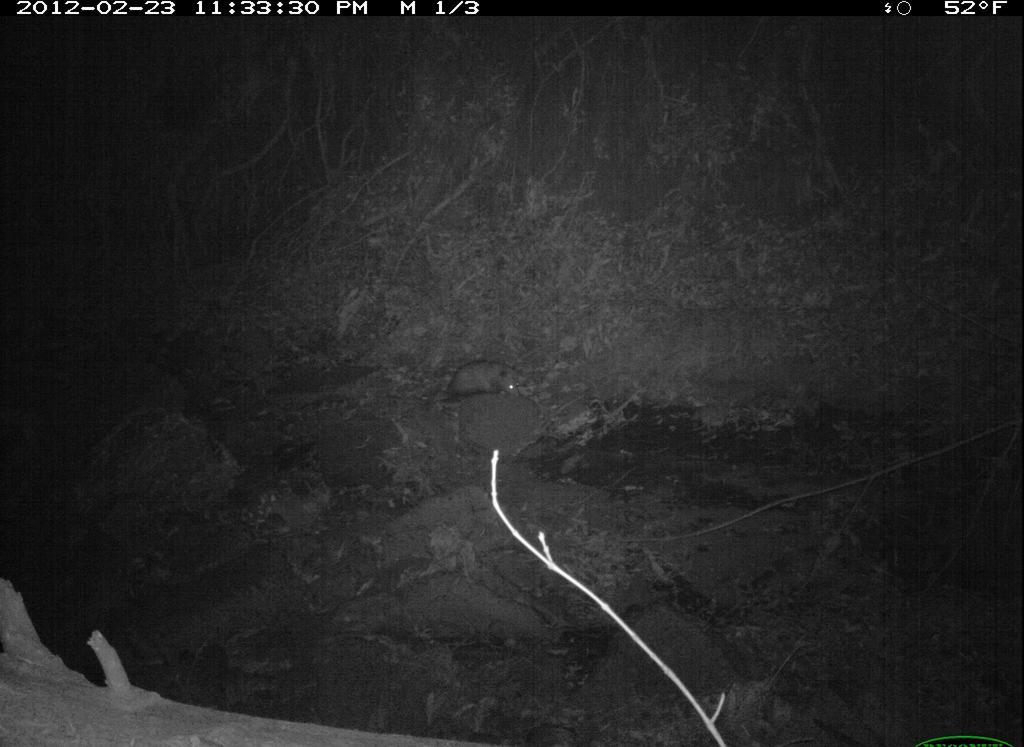opossum: (423, 347, 536, 411)
